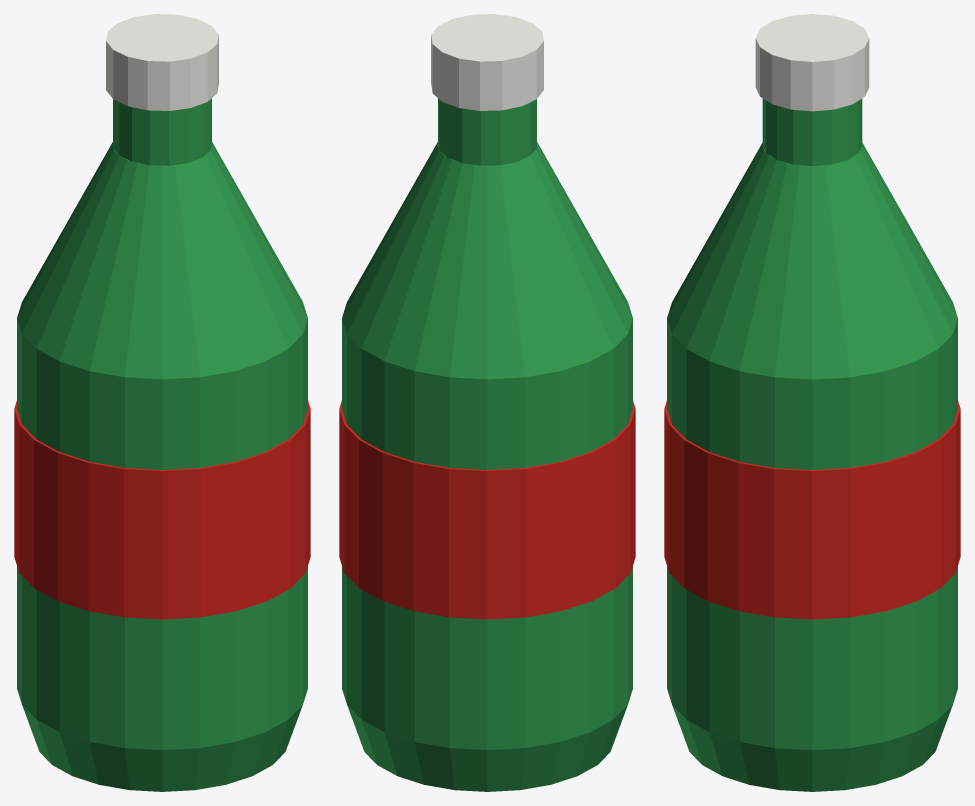
The model's file is inflatable_bottle.glb.
The picture shows the model from 3 angles, left to right: view 1: azimuth 30°, elevation 25°; view 2: azimuth 150°, elevation 25°; view 3: azimuth 270°, elevation 25°; orthographic projection.
Parts seen in each view (by area): view 1: vinyl_green, vinyl_red, vinyl_white; view 2: vinyl_green, vinyl_red, vinyl_white; view 3: vinyl_green, vinyl_red, vinyl_white.
Part boxes in pixels (x1=…): vinyl_green: x1=17, y1=98, x2=307, y2=791; vinyl_red: x1=14, y1=400, x2=310, y2=619; vinyl_white: x1=106, y1=14, x2=218, y2=110; vinyl_green: x1=342, y1=98, x2=632, y2=791; vinyl_red: x1=339, y1=400, x2=635, y2=619; vinyl_white: x1=431, y1=14, x2=543, y2=110; vinyl_green: x1=667, y1=98, x2=957, y2=791; vinyl_red: x1=664, y1=401, x2=960, y2=619; vinyl_white: x1=755, y1=14, x2=869, y2=111.
Bounding box in the file's own units: 0.652 × 1.7 × 0.652.
